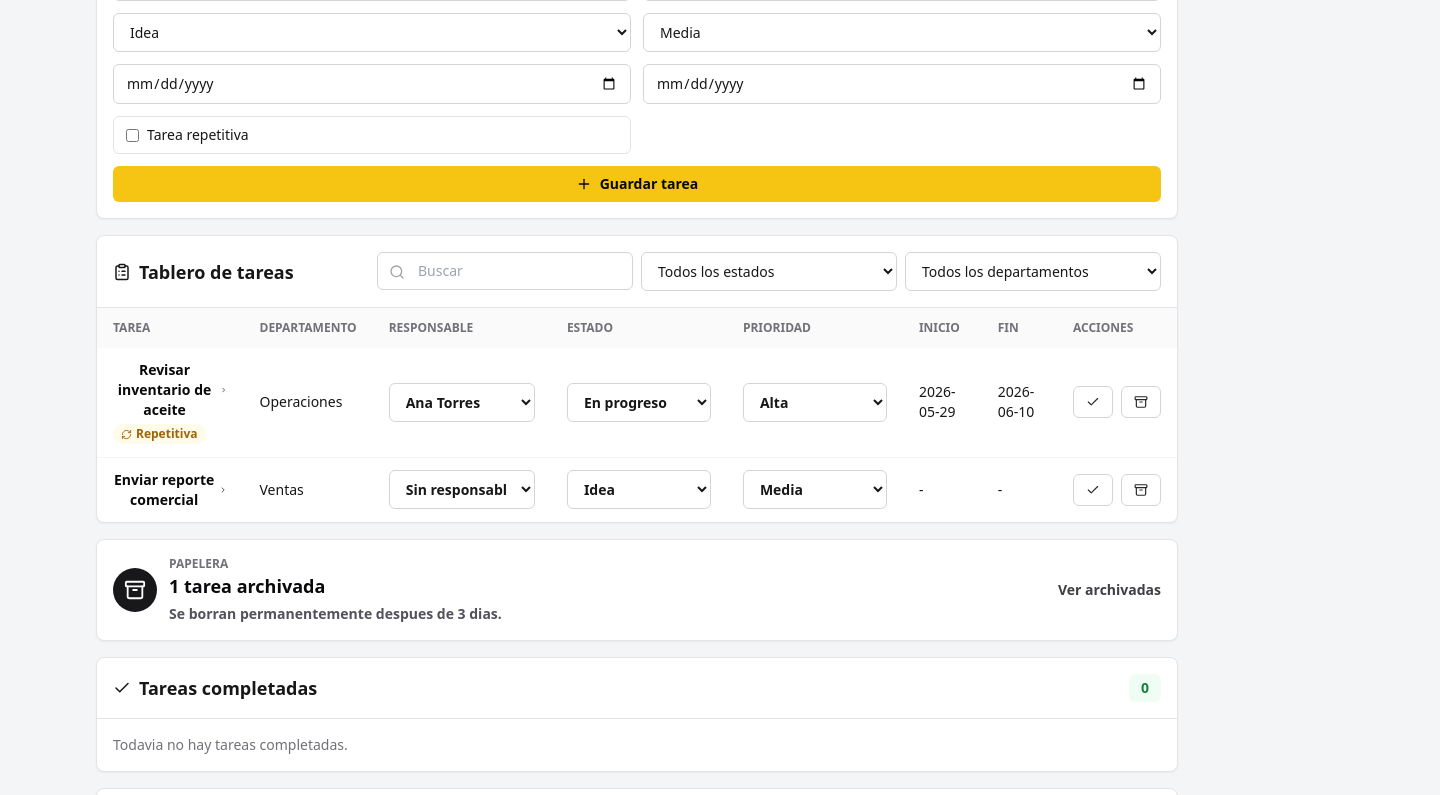
Scenario: Nomada Tasks page › shows task history in Spanish
The width and height of the screenshot is (1440, 795).
(page scrolled)
Click the button "Revisar inventario de aceite" at (170, 390), box x1=113 y1=360 x2=228 y2=420
(page scrolled)
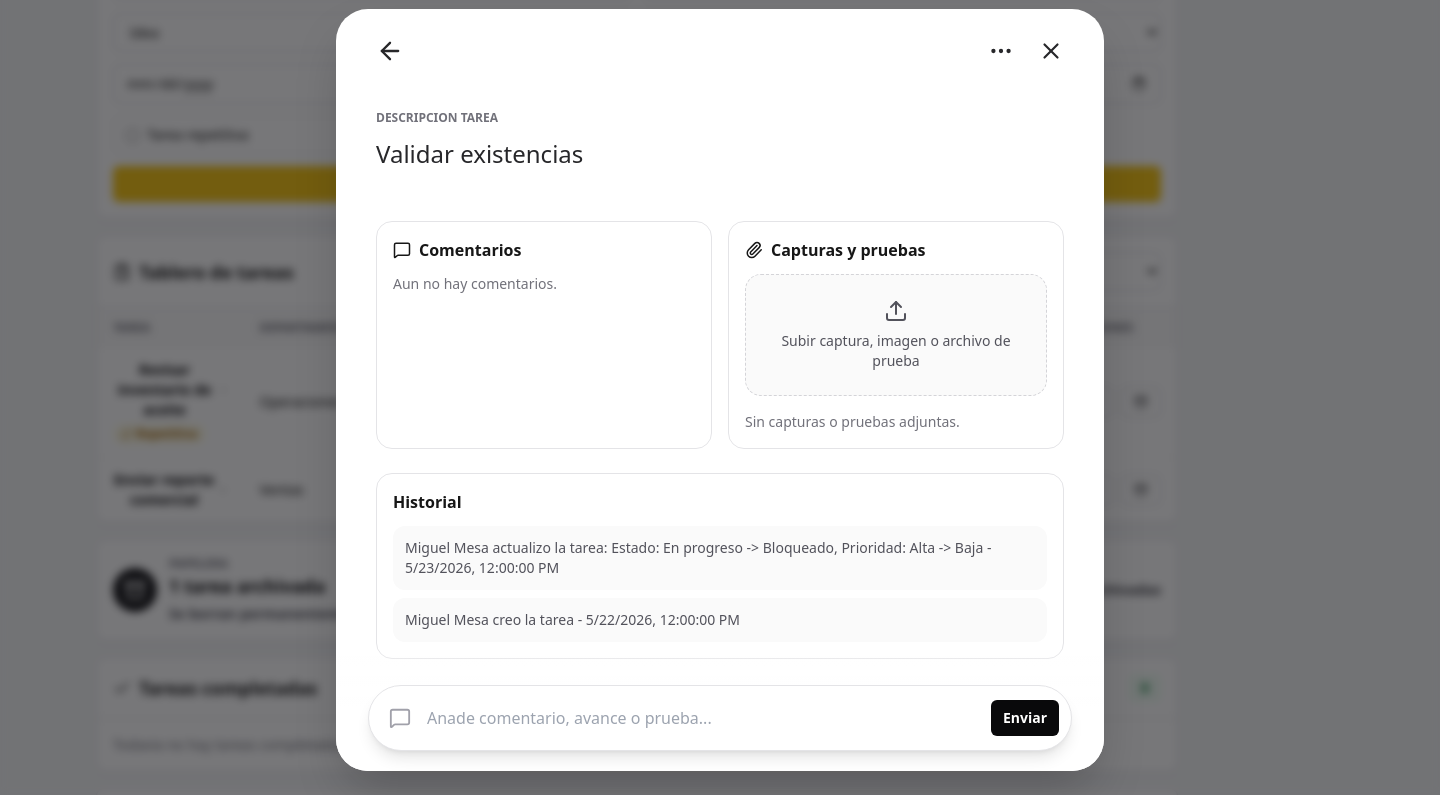
Now the text "Miguel Mesa actualizo la tarea: Estado: En progreso -> Bloqueado, Prioridad: Alta -> Baja" is shown, box x1=405 y1=538 x2=983 y2=557
Now the text "Miguel Mesa creo la tarea - 5/22/2026, 12:00:00 PM" is shown, box x1=393 y1=598 x2=1047 y2=642
